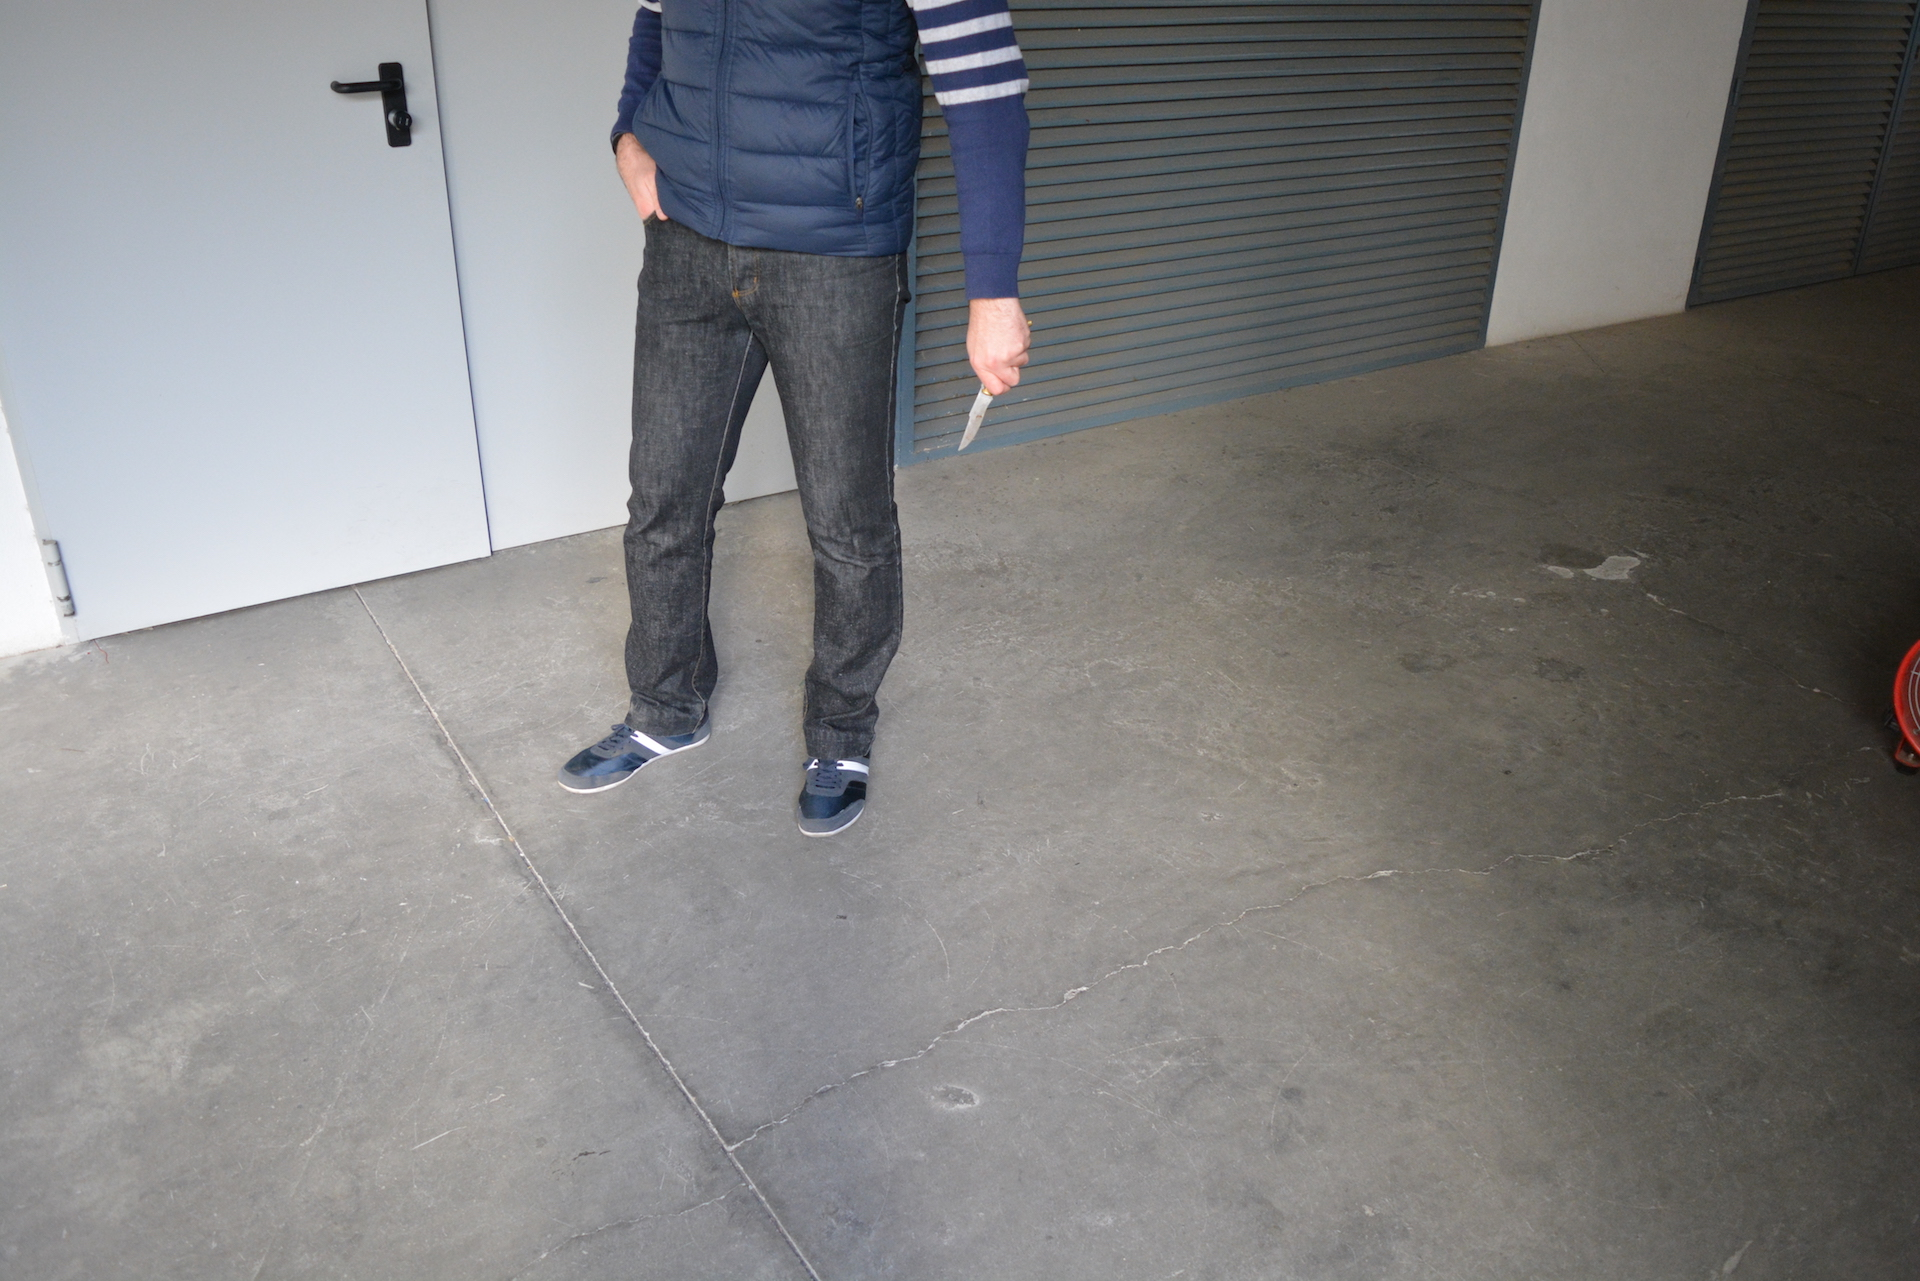knife: (949, 315, 1036, 466)
